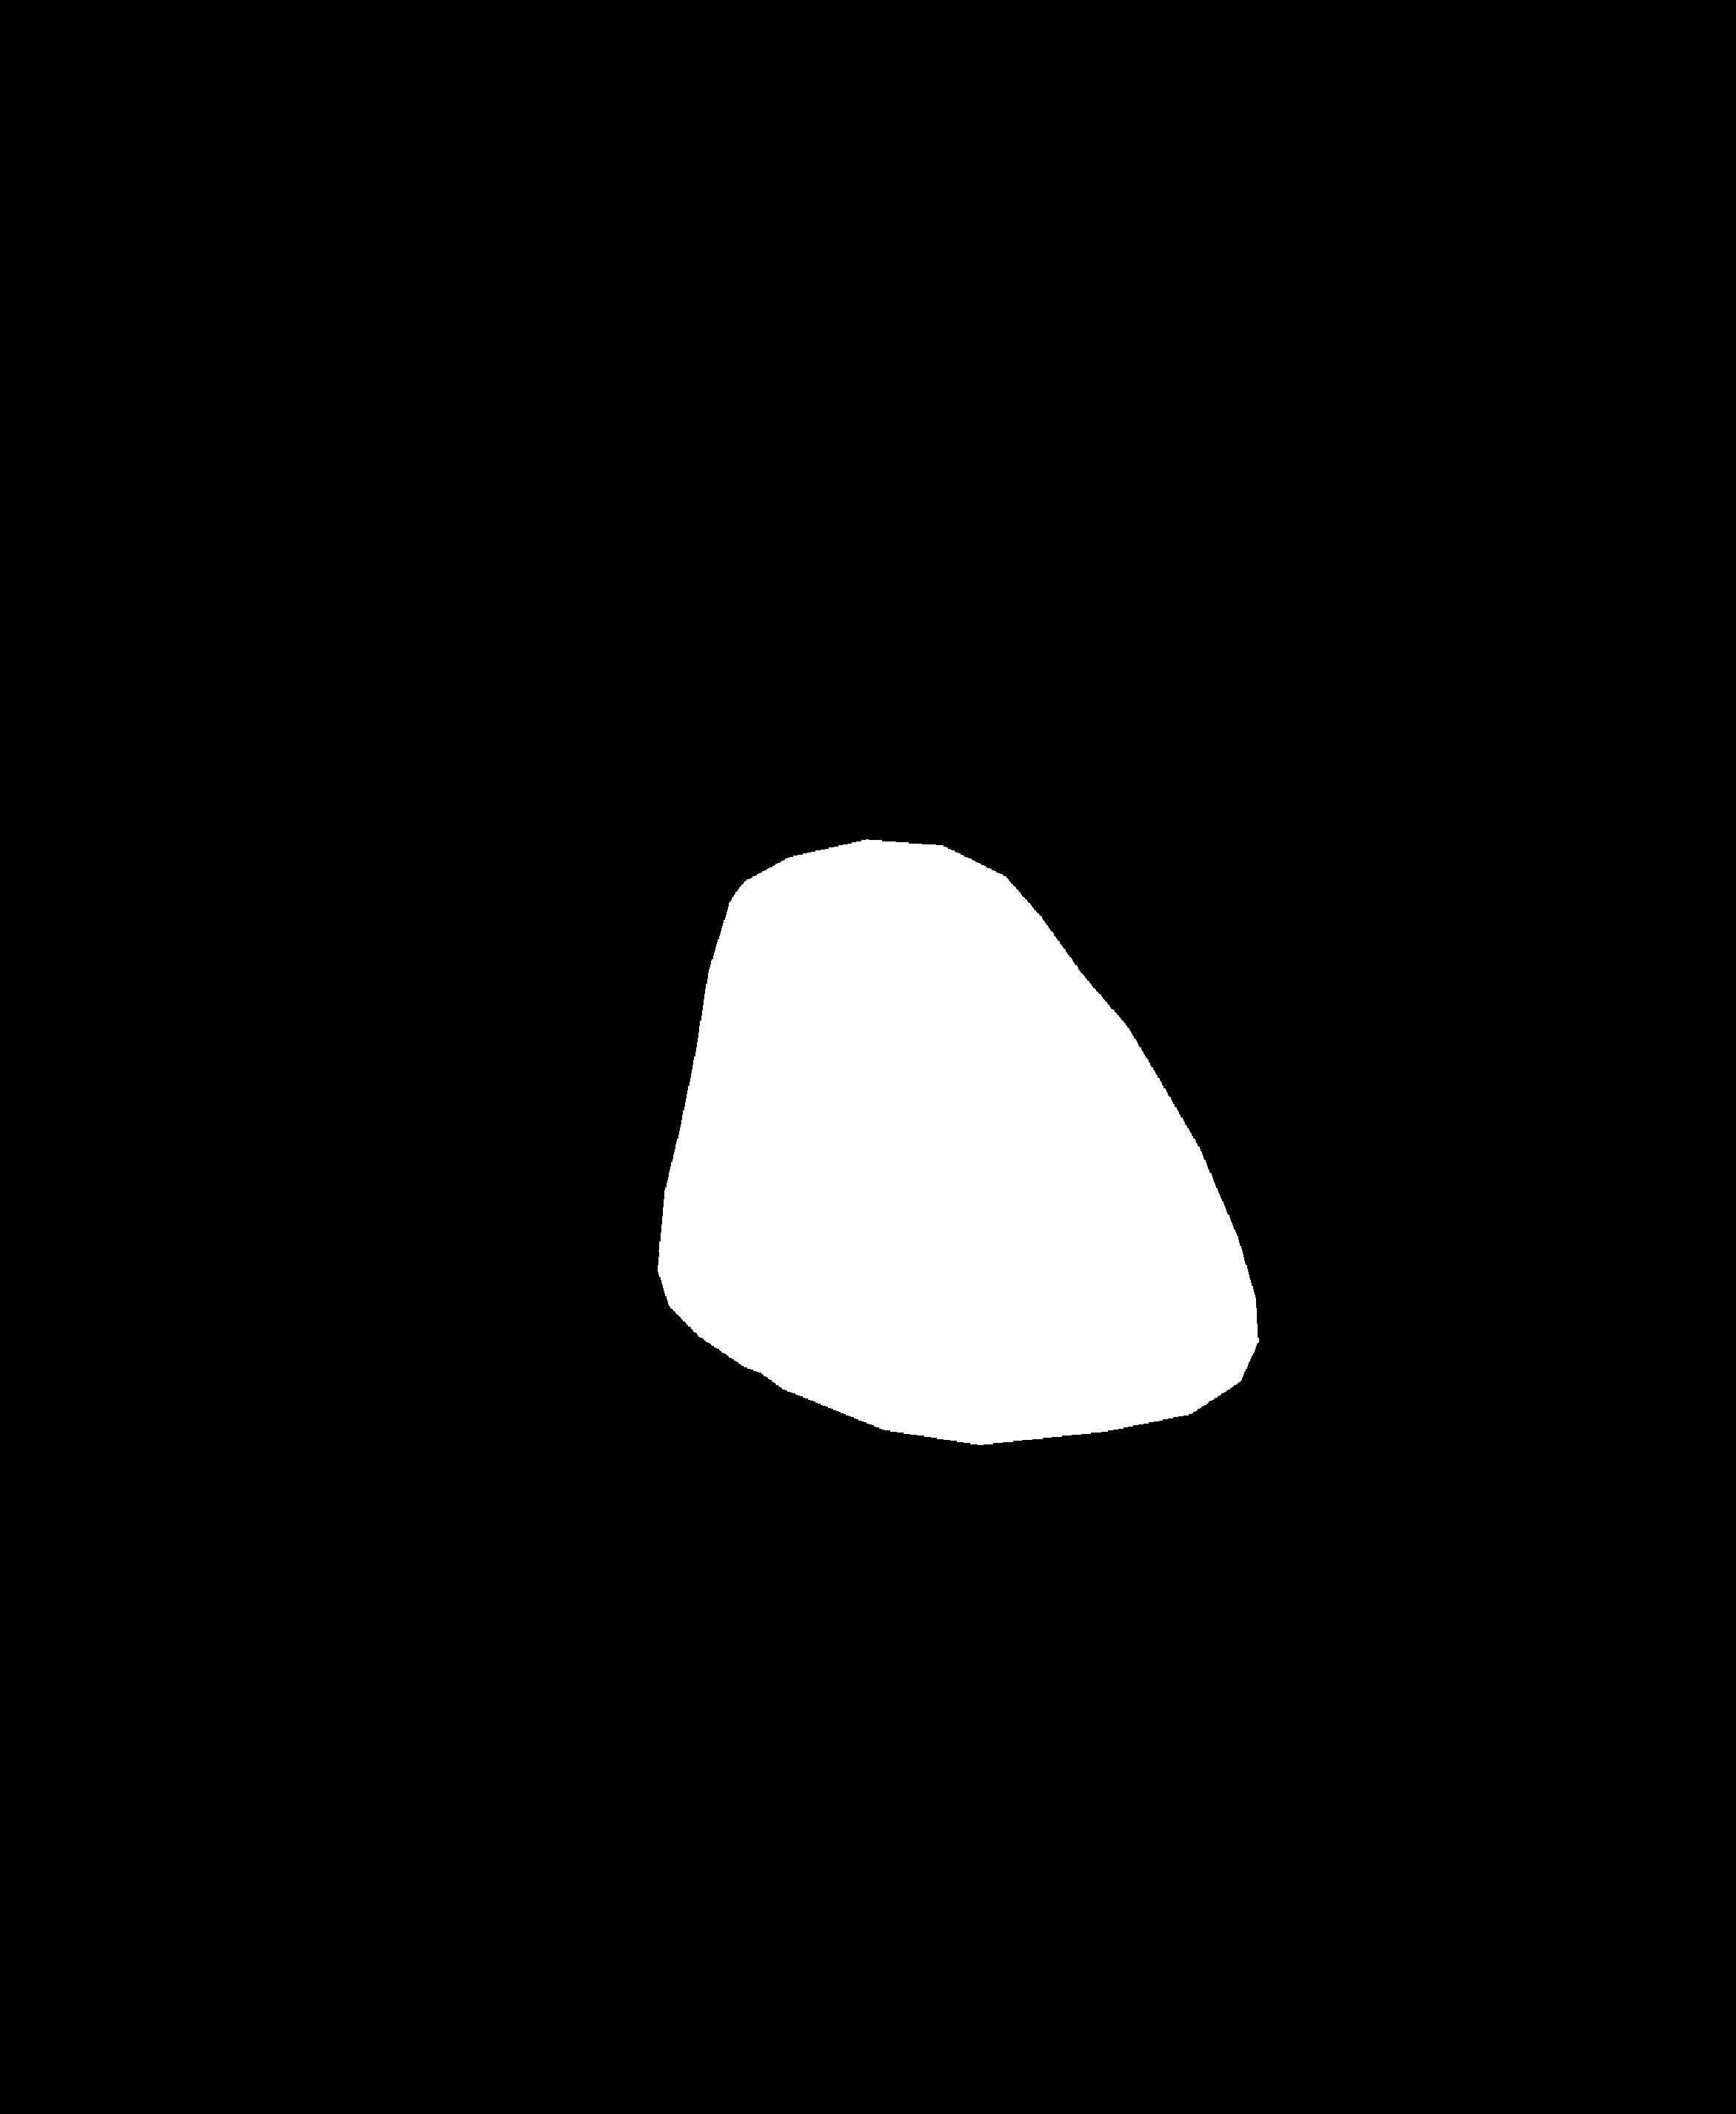heart: (665, 969, 1266, 1449)
left_lung: (307, 249, 795, 1559)
right_lung: (943, 265, 1445, 1482)
